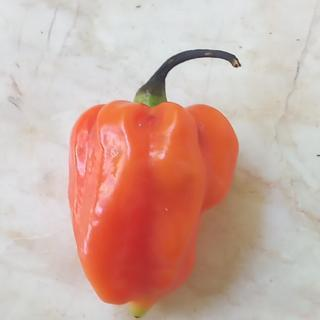Grade-A: (57, 95, 243, 311)
